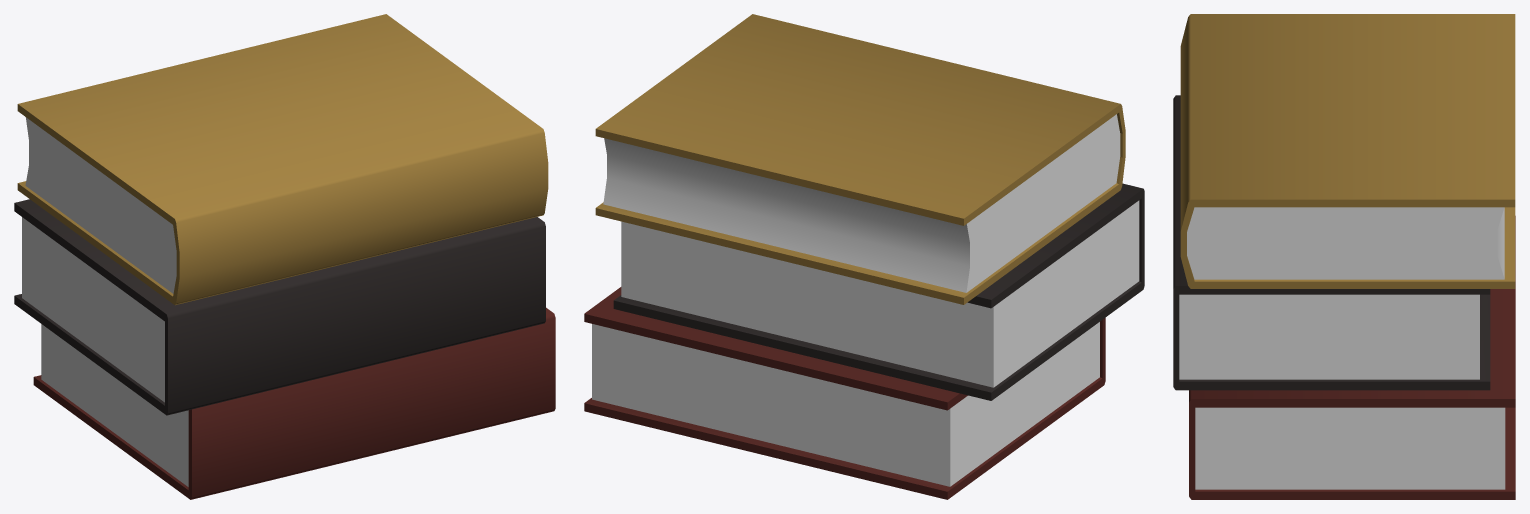
The model's file is 068_books_horizontal_reversed.glb.
3 renders of one model, left to right at view 1: azimuth 30°, elevation 25°; view 2: azimuth 150°, elevation 25°; view 3: azimuth 270°, elevation 25°, orthographic. The views are drawn at different scales.
Visible parts, largest first — view 1: Plane.004, Plane.005, Plane.003; view 2: Plane.004, Plane.005, Plane.003; view 3: Plane.004, Plane.003, Plane.005.
Part boxes in pixels (bbox=[...]): Plane.004: bbox=[17, 14, 548, 305]; Plane.005: bbox=[14, 199, 545, 415]; Plane.003: bbox=[33, 307, 555, 499]; Plane.004: bbox=[595, 14, 1125, 304]; Plane.005: bbox=[613, 183, 1144, 400]; Plane.003: bbox=[584, 287, 1105, 499]; Plane.004: bbox=[1180, 14, 1515, 288]; Plane.003: bbox=[1189, 216, 1515, 499]; Plane.005: bbox=[1173, 95, 1490, 390].
Size of the model in its own units: 0.7295 by 0.5031 by 0.5302.
